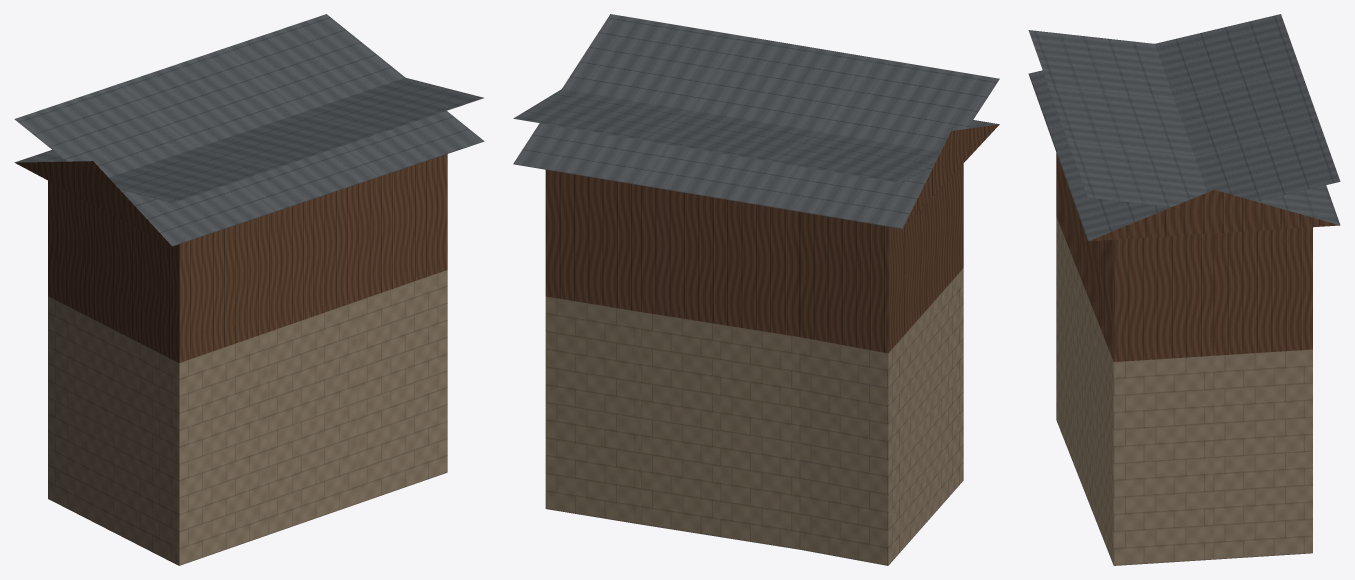
File: bld_c-2_-5_564.gltf
3 views of the same model, side by side, from view 1: azimuth 30°, elevation 25°; view 2: azimuth 150°, elevation 25°; view 3: azimuth 270°, elevation 25° (orthographic). The views are drawn at different scales.
Visible parts, largest first — view 1: bld_c-2_-5_564; view 2: bld_c-2_-5_564; view 3: bld_c-2_-5_564.
Boxes of the visible parts, x1,y1,x2,y2 form: bld_c-2_-5_564: [14, 14, 484, 565]; bld_c-2_-5_564: [513, 14, 999, 565]; bld_c-2_-5_564: [1028, 14, 1340, 565].
Size of the model in its own units: 9.02 by 8.7 by 6.47.
Materials: 4 (4 with a texture image).
